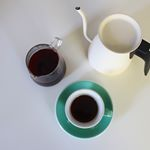cups: (63, 87, 110, 130)
